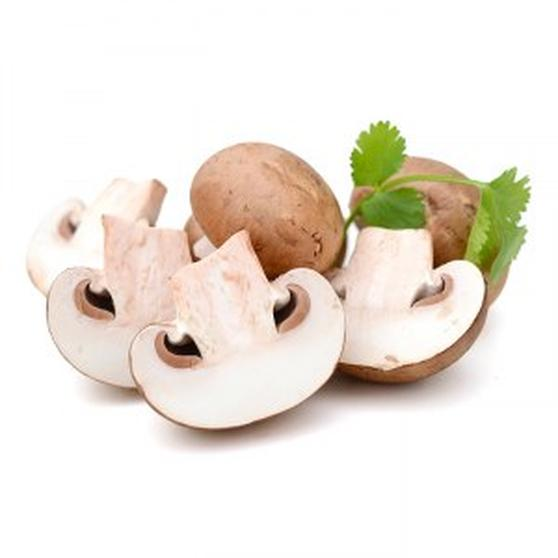champignon: (181, 135, 371, 289)
